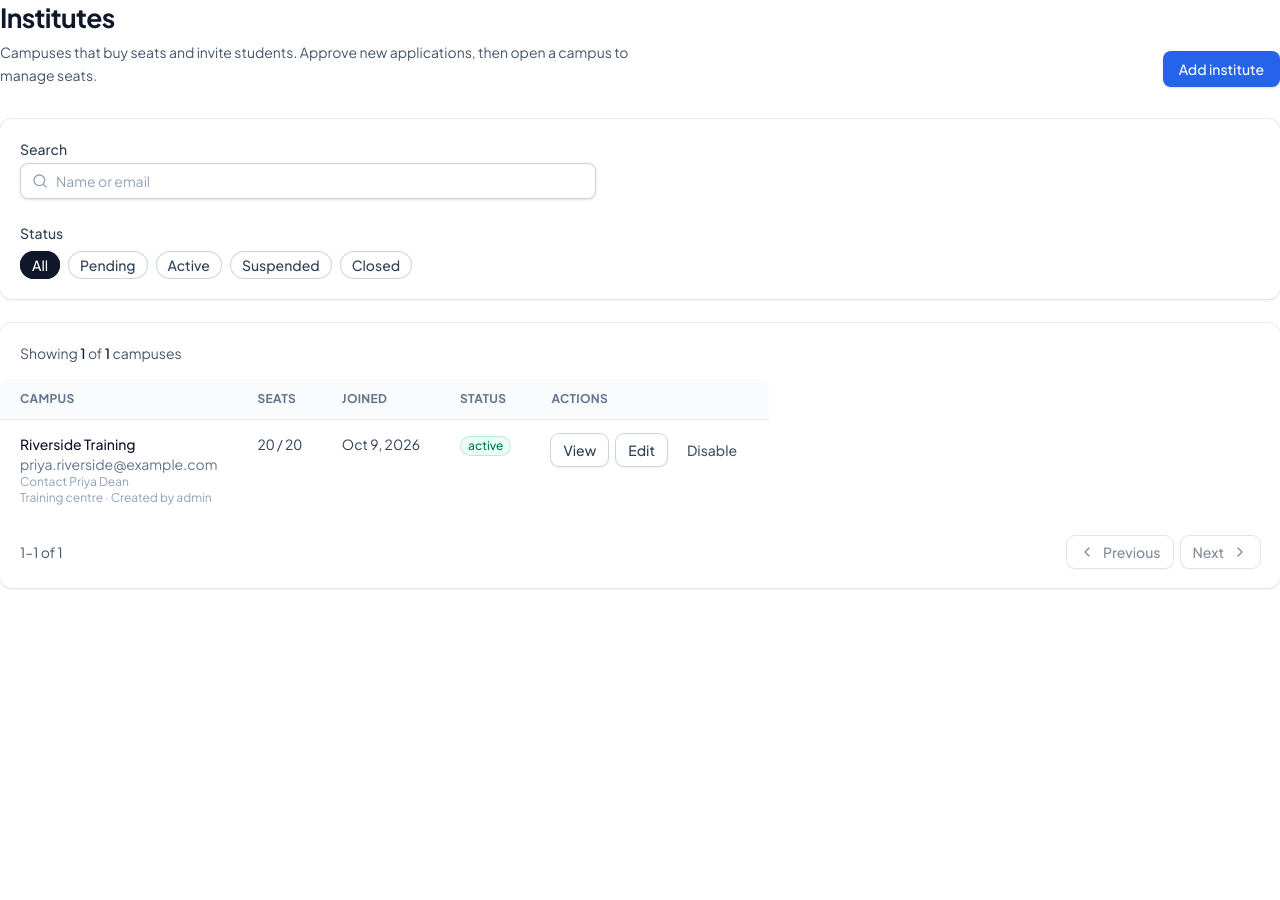
Test: admin area › disables an active campus from the list
The image size is (1280, 900).
Click the button "Disable": (712, 450) [675,434,749,466]
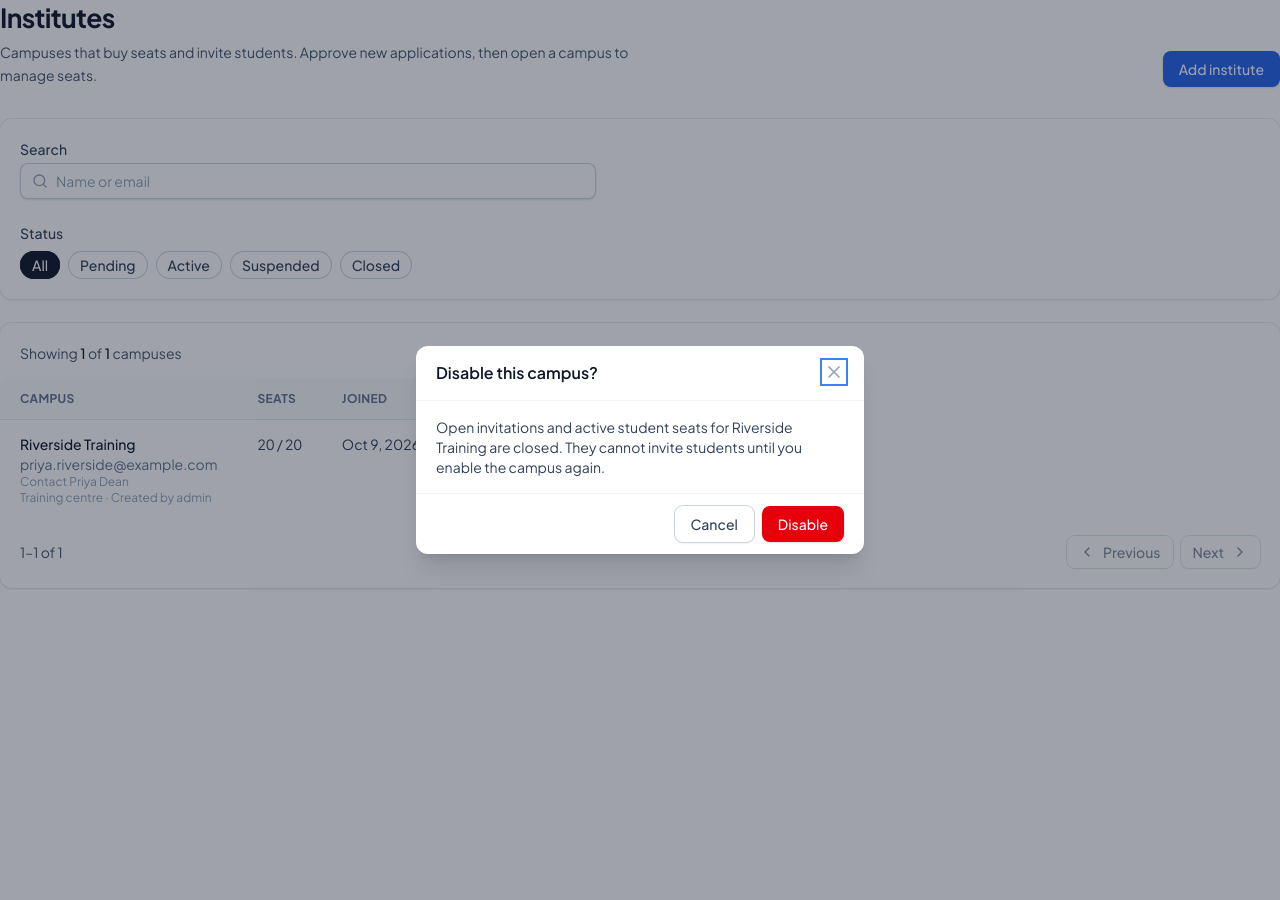
Click the button "Disable": (803, 524) [762,506,844,542]
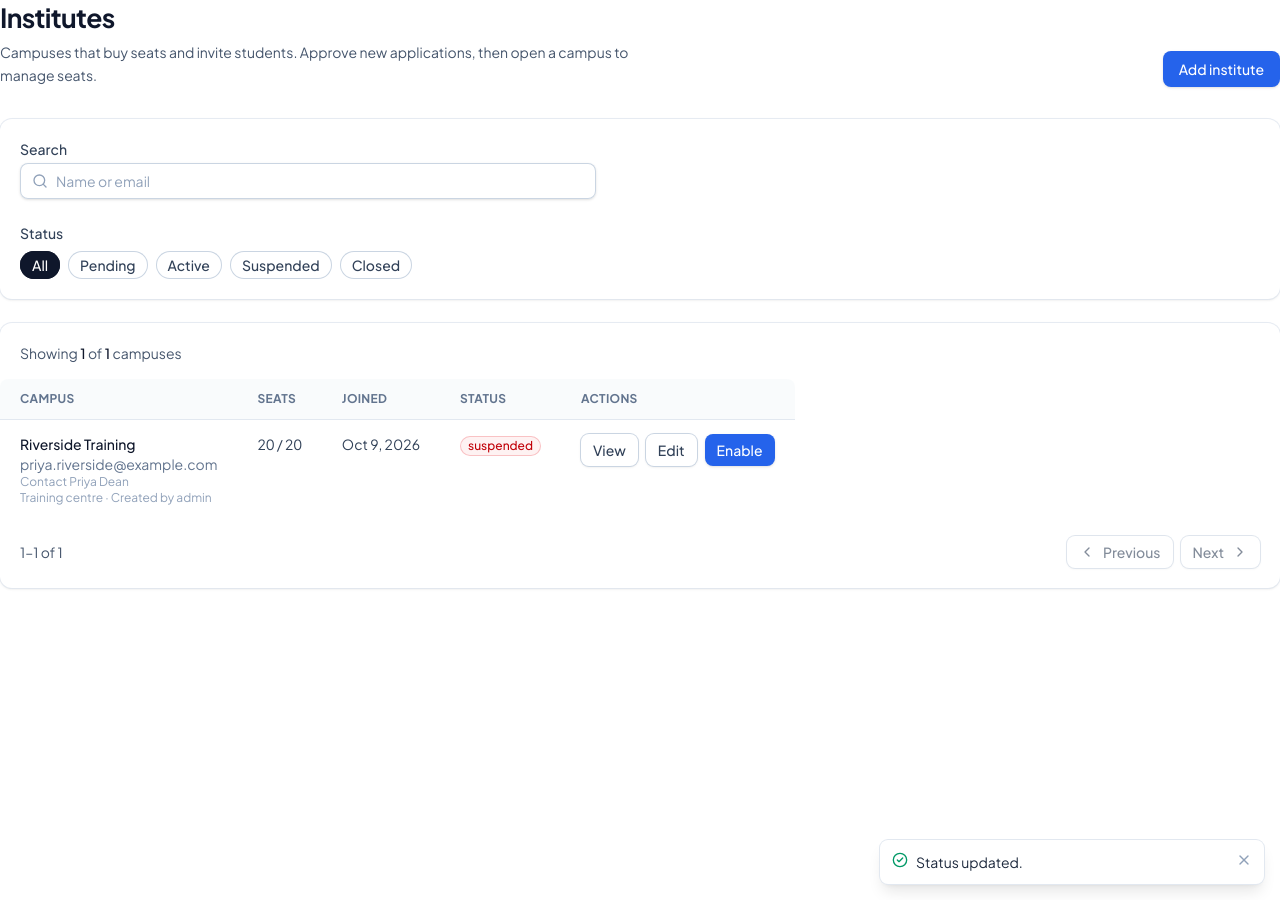
Result: the button "Enable" is shown at [705,434,774,466]
